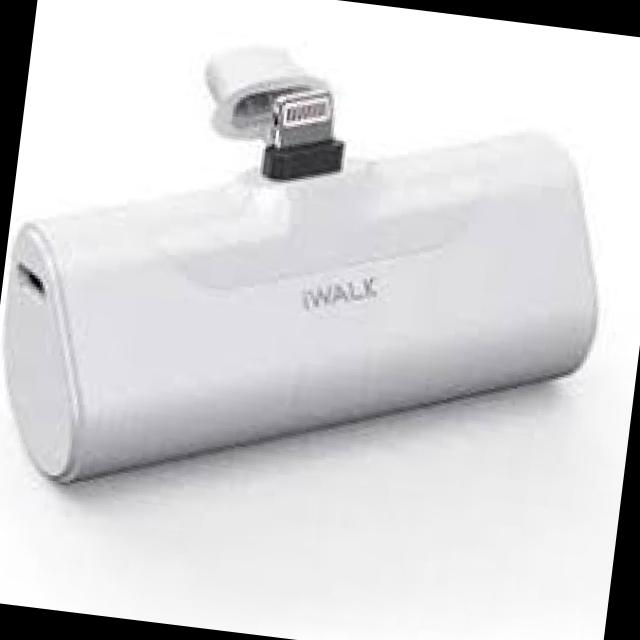power_bank: (0, 23, 626, 550)
